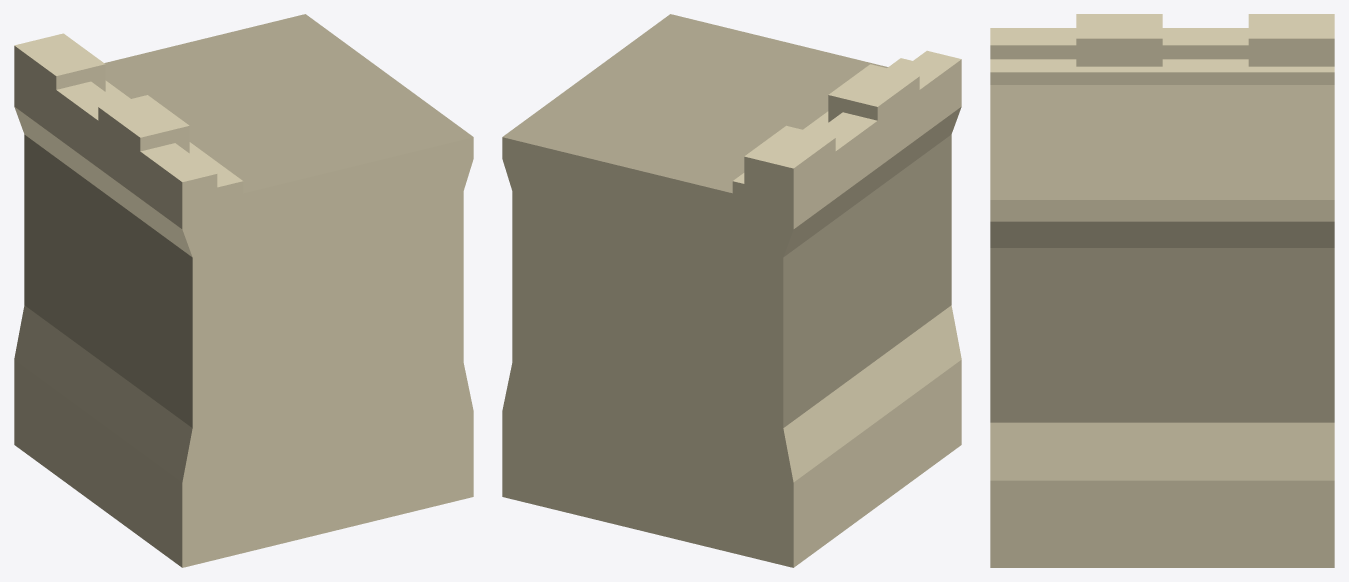
The model's file is wallHalf.fbx.
3 views of the same model, side by side, from view 1: azimuth 30°, elevation 25°; view 2: azimuth 150°, elevation 25°; view 3: azimuth 270°, elevation 25° (orthographic). The views are drawn at different scales.
Visible parts, largest first — view 1: wallHalf; view 2: wallHalf; view 3: wallHalf.
Boxes of the visible parts, x1,y1,x2,y2 form: wallHalf: (14,14,473,567); wallHalf: (502,14,961,567); wallHalf: (990,14,1334,567).
Size of the model in its own units: 10 by 13.1 by 10.
